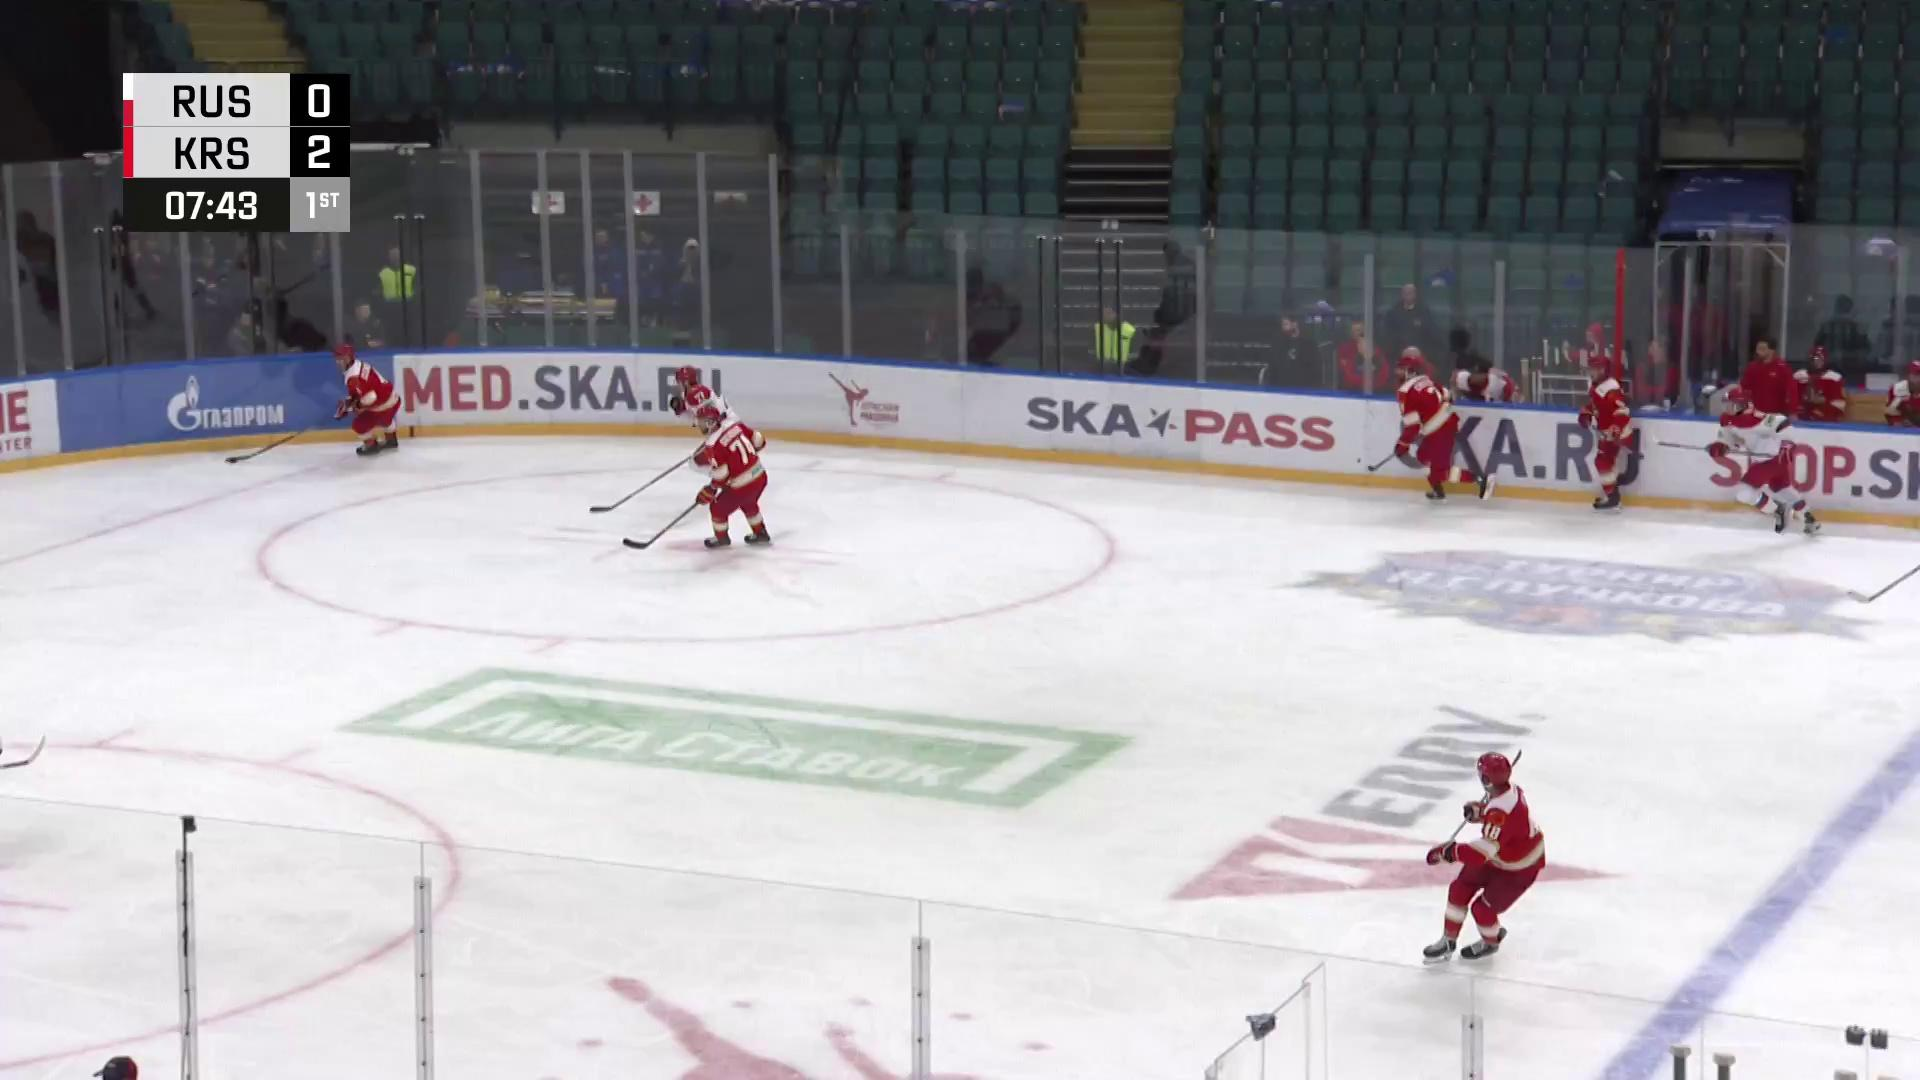ball: (225, 458, 239, 465)
